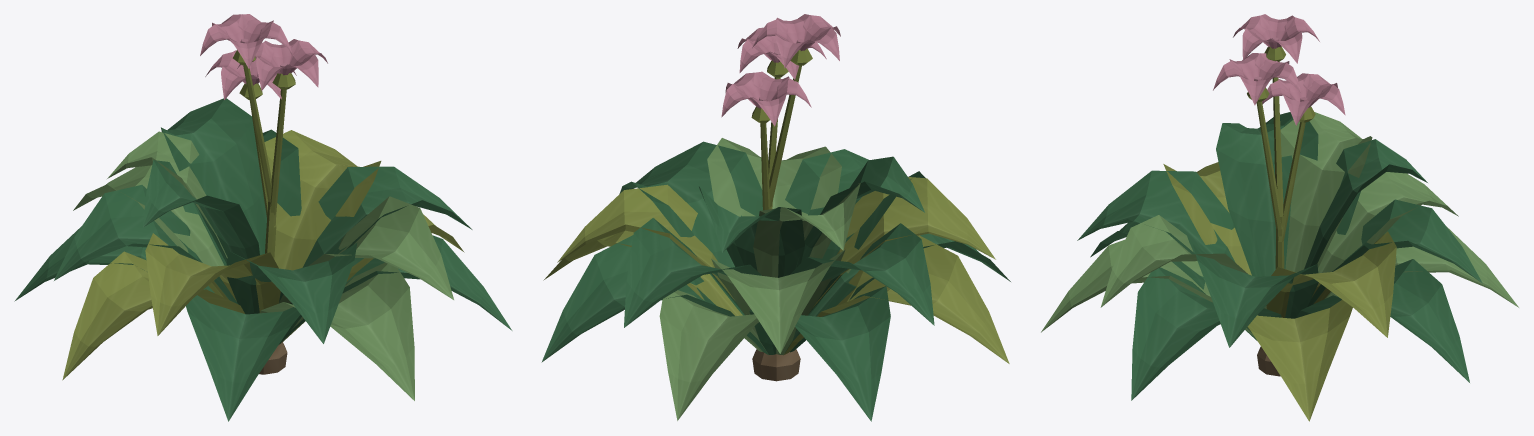
The model's file is AST-BOT-003_pool_wet_fullness_04.glb.
The picture shows the model from 3 angles, left to right: view 1: azimuth 30°, elevation 25°; view 2: azimuth 150°, elevation 25°; view 3: azimuth 270°, elevation 25°; orthographic projection. The views are drawn at different scales.
Visible parts, largest first — view 1: RT_AST-BOT-003_pool_wet_fullness_04__leaf_jade, RT_AST-BOT-003_pool_wet_fullness_04__leaf_olive, RT_AST-BOT-003_pool_wet_fullness_04__leaf_sage, RT_AST-BOT-003_pool_wet_fullness_04__flower, RT_AST-BOT-003_pool_wet_fullness_04__bark; view 2: RT_AST-BOT-003_pool_wet_fullness_04__leaf_jade, RT_AST-BOT-003_pool_wet_fullness_04__leaf_olive, RT_AST-BOT-003_pool_wet_fullness_04__leaf_sage, RT_AST-BOT-003_pool_wet_fullness_04__flower, RT_AST-BOT-003_pool_wet_fullness_04__bark; view 3: RT_AST-BOT-003_pool_wet_fullness_04__leaf_jade, RT_AST-BOT-003_pool_wet_fullness_04__leaf_sage, RT_AST-BOT-003_pool_wet_fullness_04__leaf_olive, RT_AST-BOT-003_pool_wet_fullness_04__flower.
Part boxes in pixels (<box>): RT_AST-BOT-003_pool_wet_fullness_04__leaf_jade: <box>14,98,512,421</box>; RT_AST-BOT-003_pool_wet_fullness_04__leaf_olive: <box>62,50,464,380</box>; RT_AST-BOT-003_pool_wet_fullness_04__leaf_sage: <box>73,131,453,400</box>; RT_AST-BOT-003_pool_wet_fullness_04__flower: <box>200,14,327,99</box>; RT_AST-BOT-003_pool_wet_fullness_04__bark: <box>259,342,287,374</box>; RT_AST-BOT-003_pool_wet_fullness_04__leaf_jade: <box>541,141,1010,421</box>; RT_AST-BOT-003_pool_wet_fullness_04__leaf_olive: <box>543,48,1009,363</box>; RT_AST-BOT-003_pool_wet_fullness_04__leaf_sage: <box>659,138,860,420</box>; RT_AST-BOT-003_pool_wet_fullness_04__flower: <box>721,14,840,126</box>; RT_AST-BOT-003_pool_wet_fullness_04__bark: <box>752,349,800,381</box>; RT_AST-BOT-003_pool_wet_fullness_04__leaf_jade: <box>1077,112,1482,400</box>; RT_AST-BOT-003_pool_wet_fullness_04__leaf_sage: <box>1041,112,1518,337</box>; RT_AST-BOT-003_pool_wet_fullness_04__leaf_olive: <box>1163,46,1396,421</box>; RT_AST-BOT-003_pool_wet_fullness_04__flower: <box>1213,14,1345,125</box>.
Bounding box in the file's own units: 0.4923 × 0.3754 × 0.4923.
5 materials, 5 textured.
